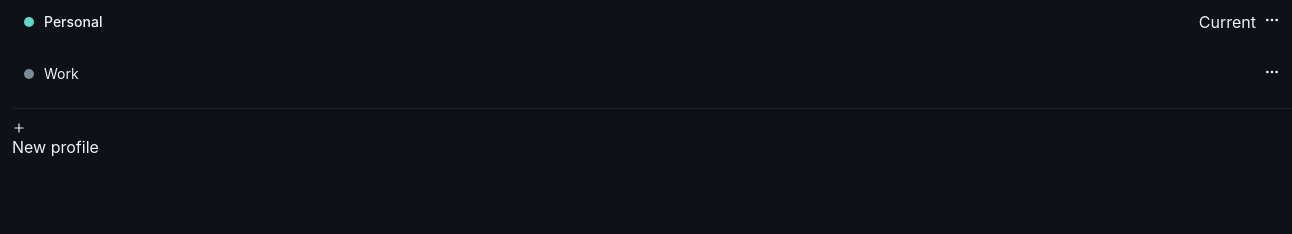
Test: ManageProfiles › keeps encryption controls behind the menu, hidden by default
The image size is (1292, 234).
Expected: the button "Encrypt this profile" is not shown
What coordinates should you click on to do the following:
click the button named "Work actions"
I would click on:
 (1272, 72)
Its box is [1264, 64, 1280, 80].
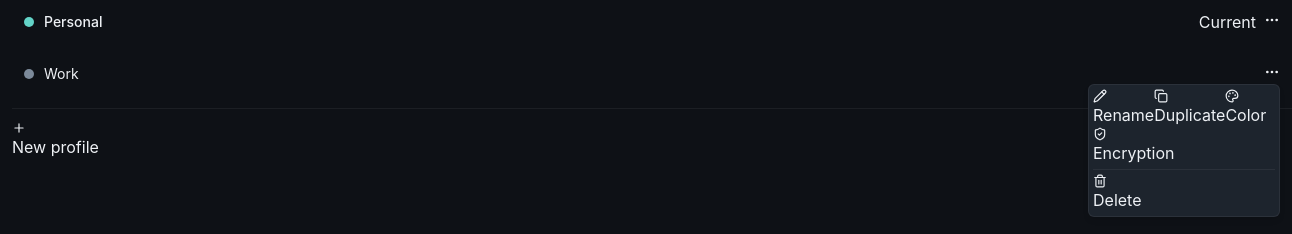
What coordinates should you click on to do the following:
click the menu item "Encryption"
I would click on:
 (1134, 146)
Its box is [1093, 127, 1174, 165].
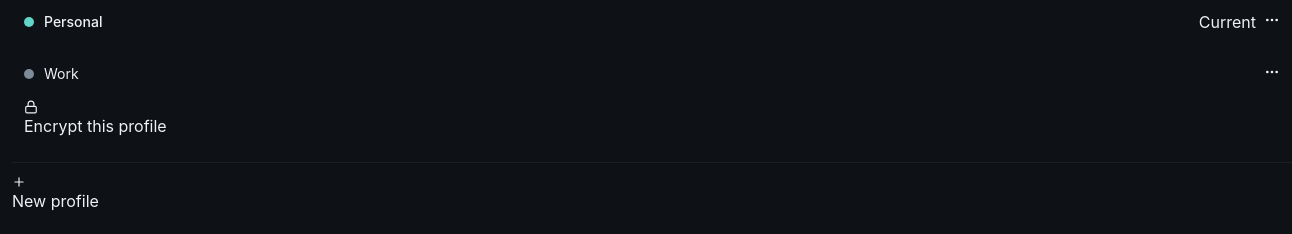
Expected: the button "Encrypt this profile" is shown, [24, 100, 167, 138]
